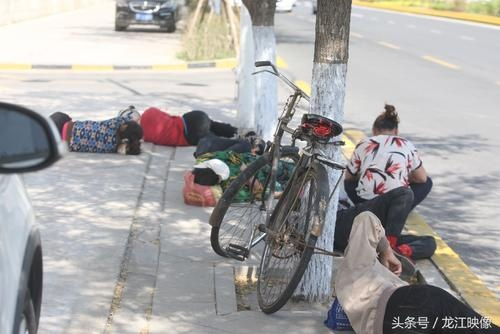falling: (176, 138, 255, 206)
